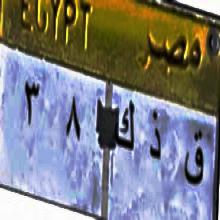3: (22, 79, 41, 137)
8: (63, 90, 81, 156)
kaaf: (113, 95, 136, 161)
qaaf: (180, 120, 204, 203)
zaal: (148, 105, 163, 171)
